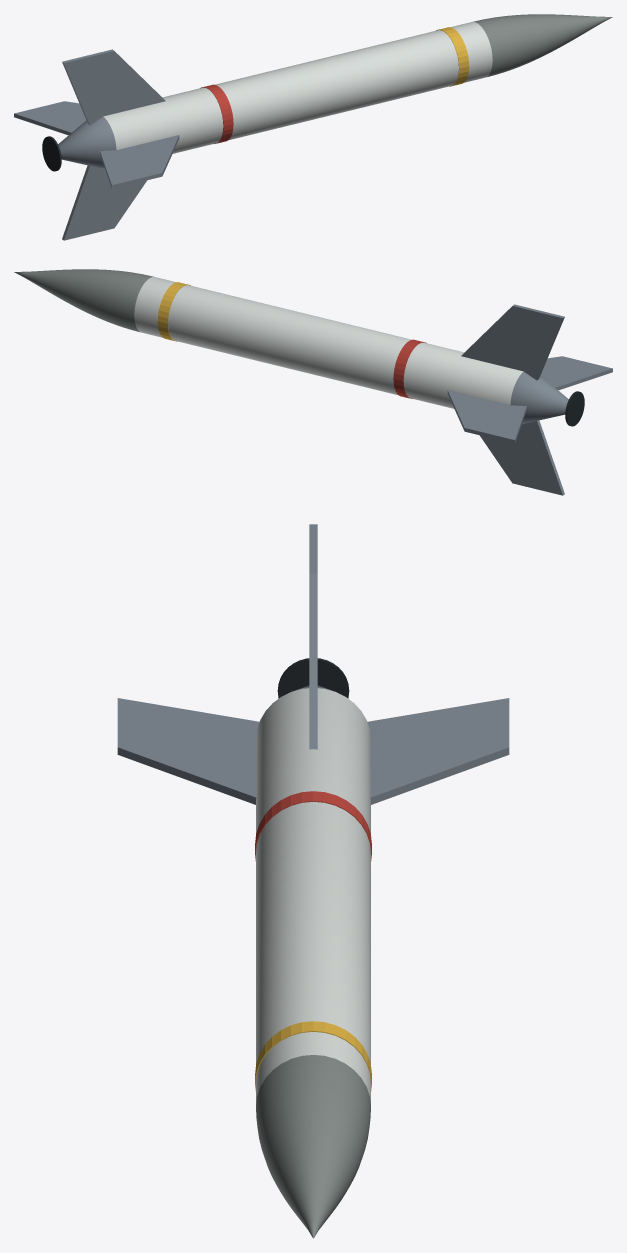
File: cw90_rastrub.glb
3 views of the same model, one above another, from view 1: azimuth 30°, elevation 25°; view 2: azimuth 150°, elevation 25°; view 3: azimuth 270°, elevation 25° (orthographic). The views are drawn at different scales.
Visible parts, largest first — view 1: cw90_rastrub; view 2: cw90_rastrub; view 3: cw90_rastrub.
Part boxes in pixels (x1,y1,x2,y2): cw90_rastrub: [14, 14, 612, 240]; cw90_rastrub: [14, 269, 612, 495]; cw90_rastrub: [117, 524, 509, 1238].
Bounding box in the file's own units: 10 × 3.02 × 3.02.
